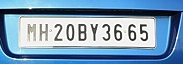0: (66, 23, 75, 41)
2: (53, 23, 64, 42)
3: (101, 23, 111, 41)
5: (139, 23, 150, 42)
6: (113, 22, 124, 42), (128, 23, 137, 41)
B: (77, 23, 87, 42)
H: (39, 23, 50, 43)
M: (27, 23, 38, 43)
Y: (89, 23, 100, 42)
